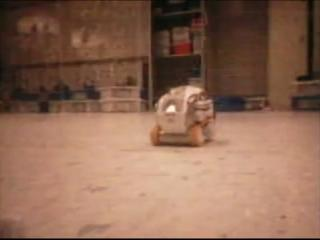cozmo: (149, 84, 216, 147)
